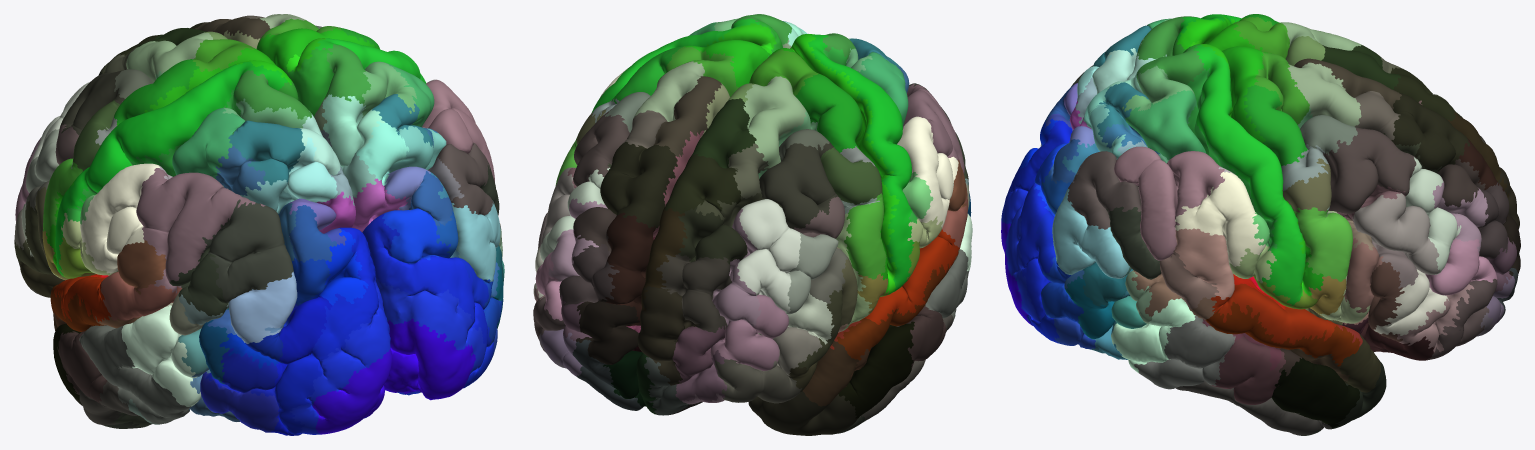
The model's file is cortex-hcp-mmp.glb.
3 views of the same model, side by side, from view 1: azimuth 30°, elevation 25°; view 2: azimuth 150°, elevation 25°; view 3: azimuth 270°, elevation 25° (orthographic). The views are drawn at different scales.
Parts seen in each view (by area): view 1: hcp-mmp:left:51, hcp-mmp:left:149, hcp-mmp:left:151, hcp-mmp:left:5, hcp-mmp:right:1, hcp-mmp:right:5, hcp-mmp:left:148, hcp-mmp:left:133, hcp-mmp:left:137, hcp-mmp:right:4, hcp-mmp:left:4, hcp-mmp:left:1 (+73 smaller); view 2: hcp-mmp:left:51, hcp-mmp:left:84, hcp-mmp:right:70, hcp-mmp:left:67, hcp-mmp:left:87, hcp-mmp:left:132, hcp-mmp:right:69, hcp-mmp:left:44, hcp-mmp:left:72, hcp-mmp:left:131, hcp-mmp:left:85, hcp-mmp:left:148 (+67 smaller); view 3: hcp-mmp:right:51, hcp-mmp:right:149, hcp-mmp:right:67, hcp-mmp:right:133, hcp-mmp:right:148, hcp-mmp:right:83, hcp-mmp:right:132, hcp-mmp:right:143, hcp-mmp:right:151, hcp-mmp:right:70, hcp-mmp:right:175, hcp-mmp:right:47 (+73 smaller).
Part boxes in pixels (bbox=[...]): hcp-mmp:left:51: bbox=[55, 61, 287, 277]; hcp-mmp:left:149: bbox=[136, 168, 265, 293]; hcp-mmp:left:151: bbox=[201, 199, 293, 302]; hcp-mmp:left:5: bbox=[274, 227, 378, 435]; hcp-mmp:right:1: bbox=[384, 318, 475, 400]; hcp-mmp:right:5: bbox=[362, 213, 487, 388]; hcp-mmp:left:148: bbox=[80, 163, 160, 273]; hcp-mmp:left:133: bbox=[79, 325, 191, 424]; hcp-mmp:left:137: bbox=[121, 305, 201, 406]; hcp-mmp:right:4: bbox=[376, 278, 485, 395]; hcp-mmp:left:4: bbox=[289, 280, 390, 434]; hcp-mmp:left:1: bbox=[312, 345, 391, 434]; hcp-mmp:left:51: bbox=[808, 34, 914, 291]; hcp-mmp:left:84: bbox=[737, 199, 801, 314]; hcp-mmp:right:70: bbox=[600, 142, 677, 228]; hcp-mmp:left:67: bbox=[759, 142, 838, 229]; hcp-mmp:left:87: bbox=[656, 254, 731, 332]; hcp-mmp:left:132: bbox=[838, 321, 914, 418]; hcp-mmp:right:69: bbox=[605, 212, 655, 326]; hcp-mmp:left:44: bbox=[743, 76, 805, 168]; hcp-mmp:left:72: bbox=[637, 286, 699, 385]; hcp-mmp:left:131: bbox=[748, 391, 858, 435]; hcp-mmp:left:85: bbox=[710, 294, 788, 370]; hcp-mmp:left:148: bbox=[897, 116, 958, 228]; hcp-mmp:right:51: bbox=[1193, 45, 1305, 305]; hcp-mmp:right:149: bbox=[1114, 146, 1224, 260]; hcp-mmp:right:67: bbox=[1323, 127, 1416, 213]; hcp-mmp:right:133: bbox=[1134, 311, 1235, 389]; hcp-mmp:right:148: bbox=[1175, 171, 1265, 266]; hcp-mmp:right:83: bbox=[1352, 193, 1440, 274]; hcp-mmp:right:132: bbox=[1271, 357, 1359, 427]; hcp-mmp:right:143: bbox=[1052, 188, 1129, 278]; hcp-mmp:right:151: bbox=[1067, 151, 1141, 229]; hcp-mmp:right:70: bbox=[1391, 92, 1470, 171]; hcp-mmp:right:175: bbox=[1211, 283, 1338, 344]; hcp-mmp:right:47: bbox=[1125, 90, 1206, 160].
Bounding box in the file's own units: 0.1294 × 0.1236 × 0.1629.
